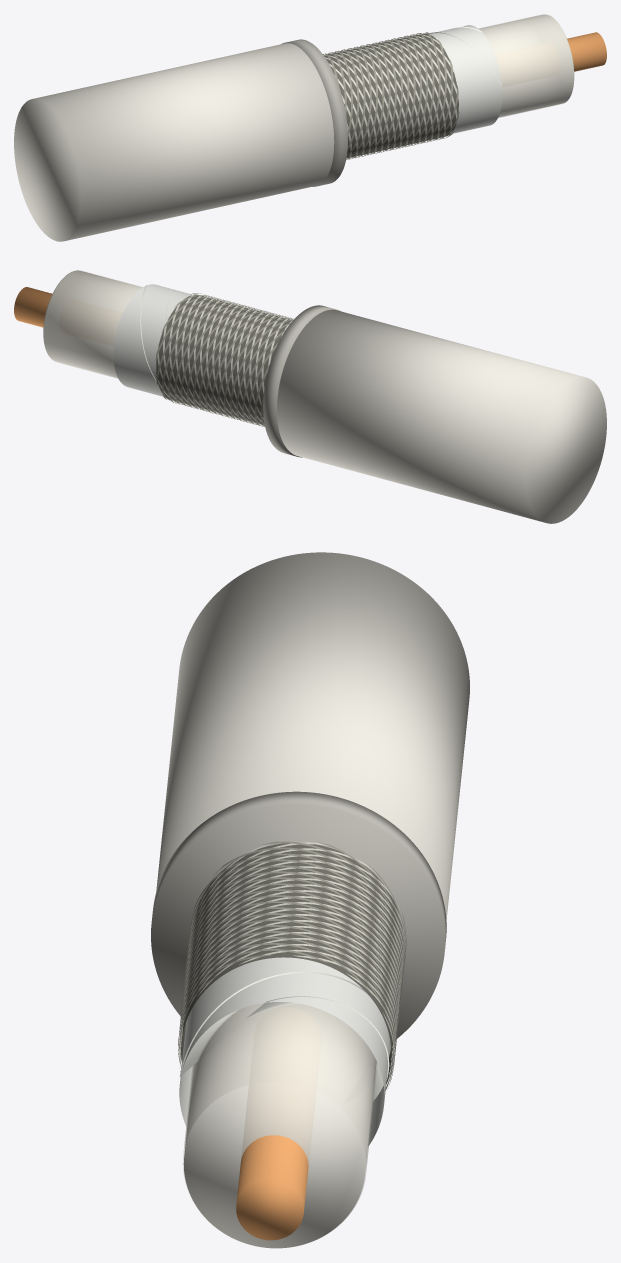
Rendered from rf-lmr240llpl.glb.
The picture shows the model from 3 angles, top to bottom: view 1: azimuth 30°, elevation 25°; view 2: azimuth 150°, elevation 25°; view 3: azimuth 270°, elevation 25°; orthographic projection. The views are drawn at different scales.
Visible parts, largest first — view 1: matte black pvc jacket body, braid dark diamond recess, gas injected foam dielectric, smooth dielectric skin, duobond foil sleeve, jacket cut lip, solid center conductor continuous, braid left hand woven carrier 01, braid left hand woven carrier 12, braid left hand woven carrier 02, braid left hand woven carrier 11, braid left hand woven carrier 03 (+11 smaller); view 2: matte black pvc jacket body, braid dark diamond recess, gas injected foam dielectric, smooth dielectric skin, duobond foil sleeve, jacket cut lip, solid center conductor continuous, braid left hand woven carrier 09, braid left hand woven carrier 08, braid left hand woven carrier 10, braid left hand woven carrier 07, braid left hand woven carrier 11 (+9 smaller); view 3: matte black pvc jacket body, gas injected foam dielectric, jacket cut lip, braid dark diamond recess, smooth dielectric skin, duobond foil sleeve, solid center conductor continuous, subtle foil wrap lap, braid left hand woven carrier 10, braid left hand woven carrier 09, braid left hand woven carrier 11, braid left hand woven carrier 08 (+7 smaller).
Boxes of the visible parts, left/top/right/bottom form: matte black pvc jacket body: left=14, top=43, right=334, bottom=241; braid dark diamond recess: left=324, top=33, right=458, bottom=158; gas injected foam dielectric: left=479, top=14, right=574, bottom=117; smooth dielectric skin: left=478, top=14, right=573, bottom=117; duobond foil sleeve: left=430, top=25, right=502, bottom=133; jacket cut lip: left=281, top=39, right=347, bottom=186; solid center conductor continuous: left=567, top=32, right=606, bottom=71; braid left hand woven carrier 01: left=346, top=32, right=440, bottom=156; braid left hand woven carrier 12: left=340, top=33, right=434, bottom=149; braid left hand woven carrier 02: left=346, top=39, right=446, bottom=159; braid left hand woven carrier 11: left=334, top=34, right=428, bottom=149; braid left hand woven carrier 03: left=350, top=45, right=453, bottom=159; matte black pvc jacket body: left=277, top=309, right=606, bottom=523; braid dark diamond recess: left=156, top=294, right=291, bottom=424; gas injected foam dielectric: left=43, top=270, right=141, bottom=377; smooth dielectric skin: left=44, top=270, right=142, bottom=378; duobond foil sleeve: left=113, top=284, right=192, bottom=396; jacket cut lip: left=263, top=305, right=340, bottom=457; solid center conductor continuous: left=14, top=287, right=52, bottom=327; braid left hand woven carrier 09: left=162, top=301, right=290, bottom=421; braid left hand woven carrier 08: left=168, top=303, right=285, bottom=423; braid left hand woven carrier 10: left=156, top=300, right=293, bottom=419; braid left hand woven carrier 07: left=174, top=305, right=278, bottom=424; braid left hand woven carrier 11: left=155, top=298, right=293, bottom=418; matte black pvc jacket body: left=156, top=552, right=469, bottom=920; gas injected foam dielectric: left=183, top=1003, right=376, bottom=1248; jacket cut lip: left=151, top=791, right=446, bottom=1040; braid dark diamond recess: left=181, top=843, right=403, bottom=1083; smooth dielectric skin: left=183, top=1003, right=377, bottom=1236; duobond foil sleeve: left=179, top=957, right=390, bottom=1146; solid center conductor continuous: left=236, top=1135, right=308, bottom=1240; subtle foil wrap lap: left=179, top=971, right=390, bottom=1100; braid left hand woven carrier 10: left=181, top=859, right=402, bottom=1084; braid left hand woven carrier 09: left=182, top=853, right=403, bottom=1090; braid left hand woven carrier 11: left=181, top=865, right=401, bottom=1040; braid left hand woven carrier 08: left=183, top=847, right=403, bottom=1084.
Size of the model in its own units: 6.53 by 1.54 by 1.67.
